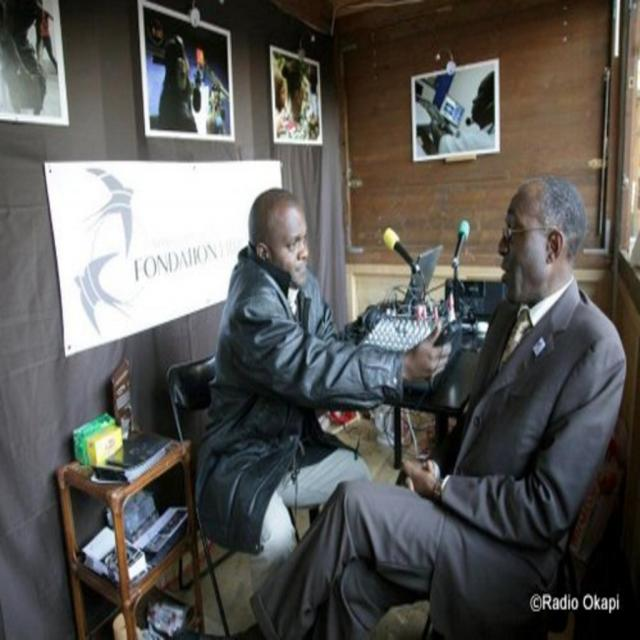desk: (50, 437, 194, 625)
person: (249, 180, 622, 632), (208, 184, 450, 588)
